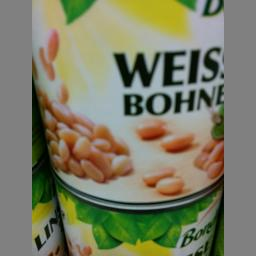beans: (31, 0, 224, 210)
